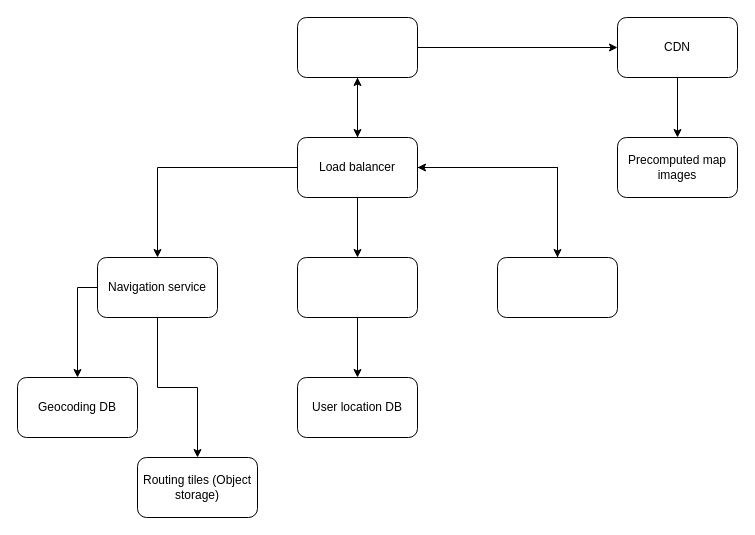
Image size: 755x535. Some labels were removed from this diagram. The shapes that lost their labels are listed below. From the top down, each one's centre as x and y in pixels, then its label:
pixel 357 47: User
pixel 357 287: Location service
pixel 557 287: Map tile service
